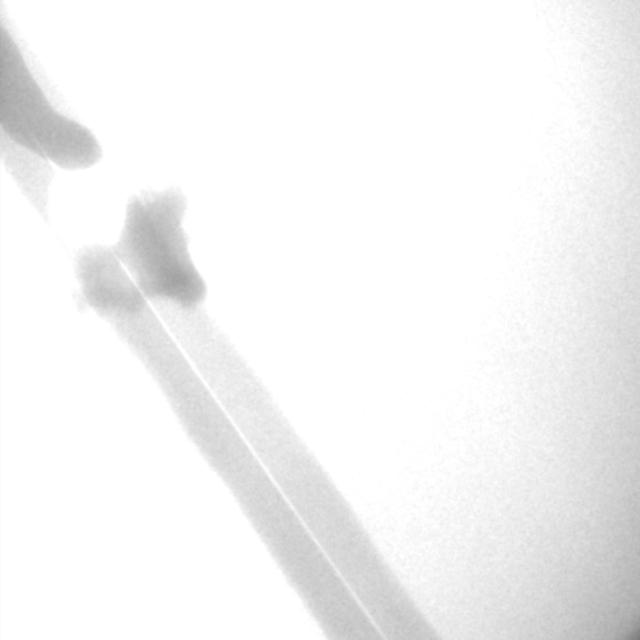broken arc: (48, 157, 385, 638)
